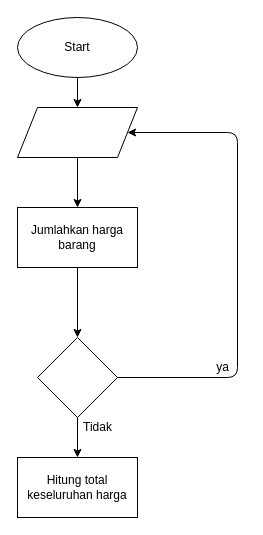
This 263x535 diagram has some shape labels left out. The centre of each missing label's shape, as x and y in pixels:
Ada barang lagi?: the point at 77,377
Masukkan kode barang: the point at 77,132
